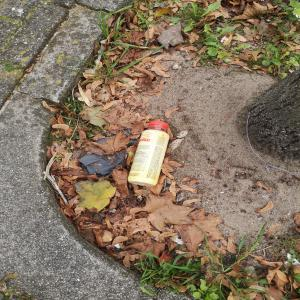Plastic-bottle: (125, 119, 174, 189)
